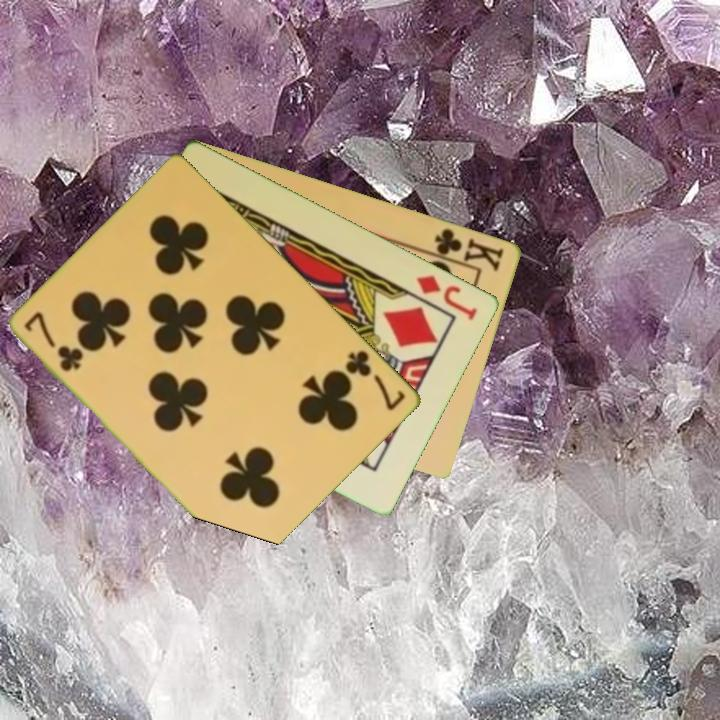7c: (342, 346, 409, 414), (20, 308, 86, 375)
Jd: (413, 271, 481, 323)
Kc: (424, 224, 507, 275)
